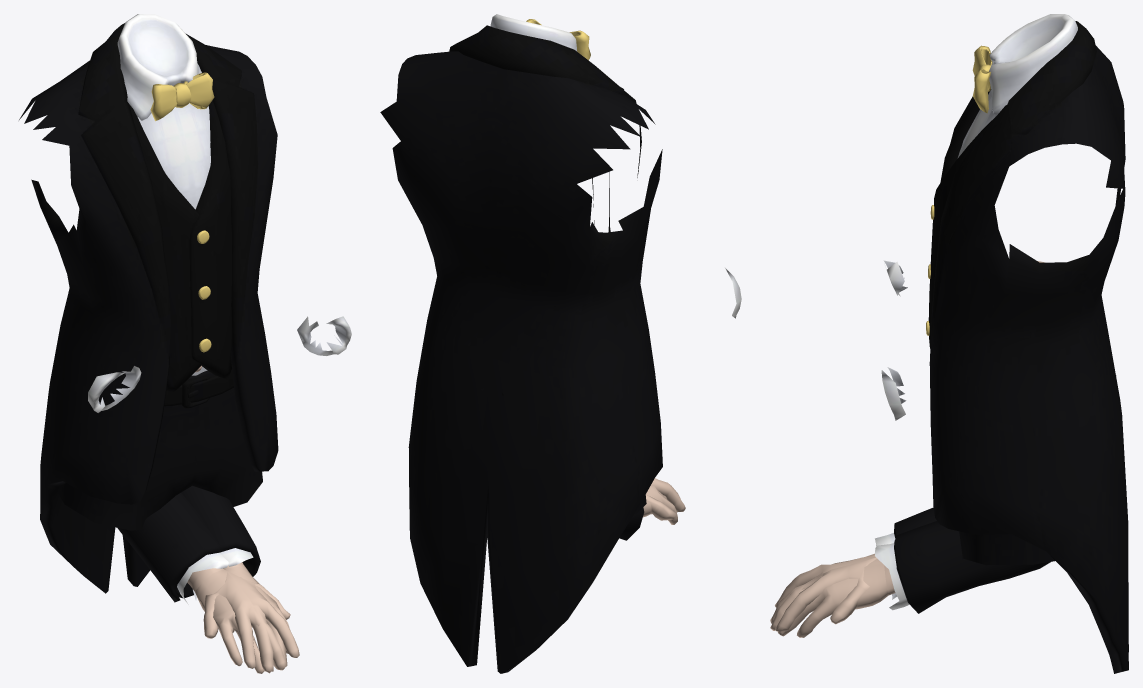
The model's file is vip_dealer.glb.
The picture shows the model from 3 angles, left to right: view 1: azimuth 30°, elevation 25°; view 2: azimuth 150°, elevation 25°; view 3: azimuth 270°, elevation 25°; orthographic projection. The views are drawn at different scales.
Parts seen in each view (by area): view 1: Dealer_Torso, Dealer_LeftArm, Dealer_RightArm; view 2: Dealer_Torso, Dealer_RightArm, Dealer_LeftArm; view 3: Dealer_Torso, Dealer_RightArm, Dealer_LeftArm.
Boxes of the visible parts, box(x1,y1,x2,y2) form: Dealer_Torso: box(19, 14, 351, 593); Dealer_LeftArm: box(117, 493, 299, 673); Dealer_RightArm: box(181, 486, 289, 673); Dealer_Torso: box(380, 14, 741, 673); Dealer_RightArm: box(502, 393, 685, 520); Dealer_LeftArm: box(481, 388, 677, 540); Dealer_Torso: box(881, 14, 1128, 673); Dealer_RightArm: box(770, 375, 1116, 637); Dealer_LeftArm: box(770, 507, 936, 632).
Bounding box in the file's own units: 0.4887 × 1.07 × 0.5373.
Materials: 9 (4 with a texture image).
